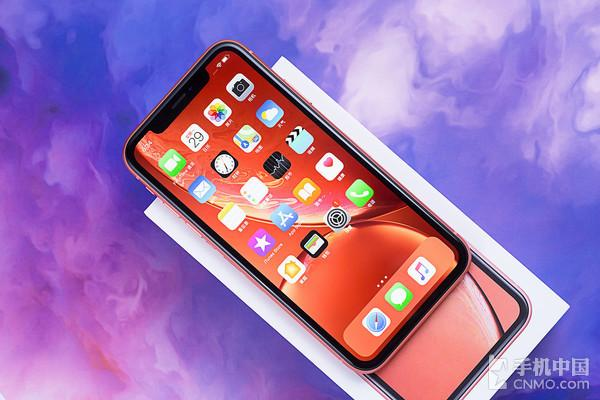phone: (139, 62, 460, 358)
